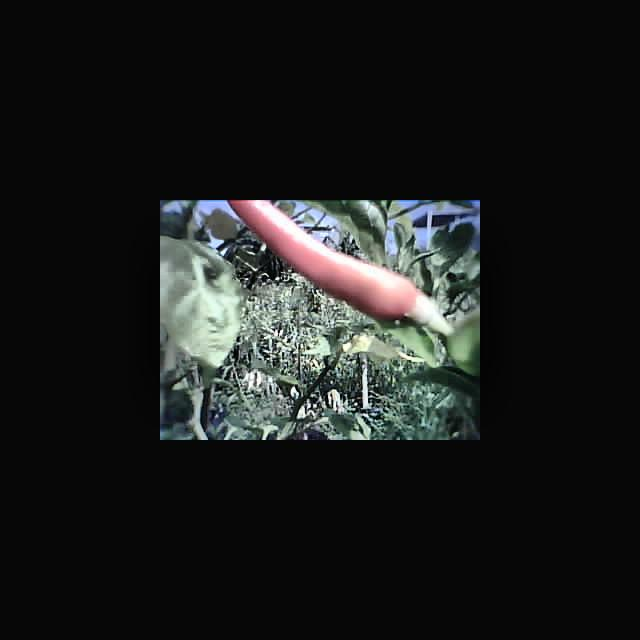Cabai: (240, 200, 424, 319)
